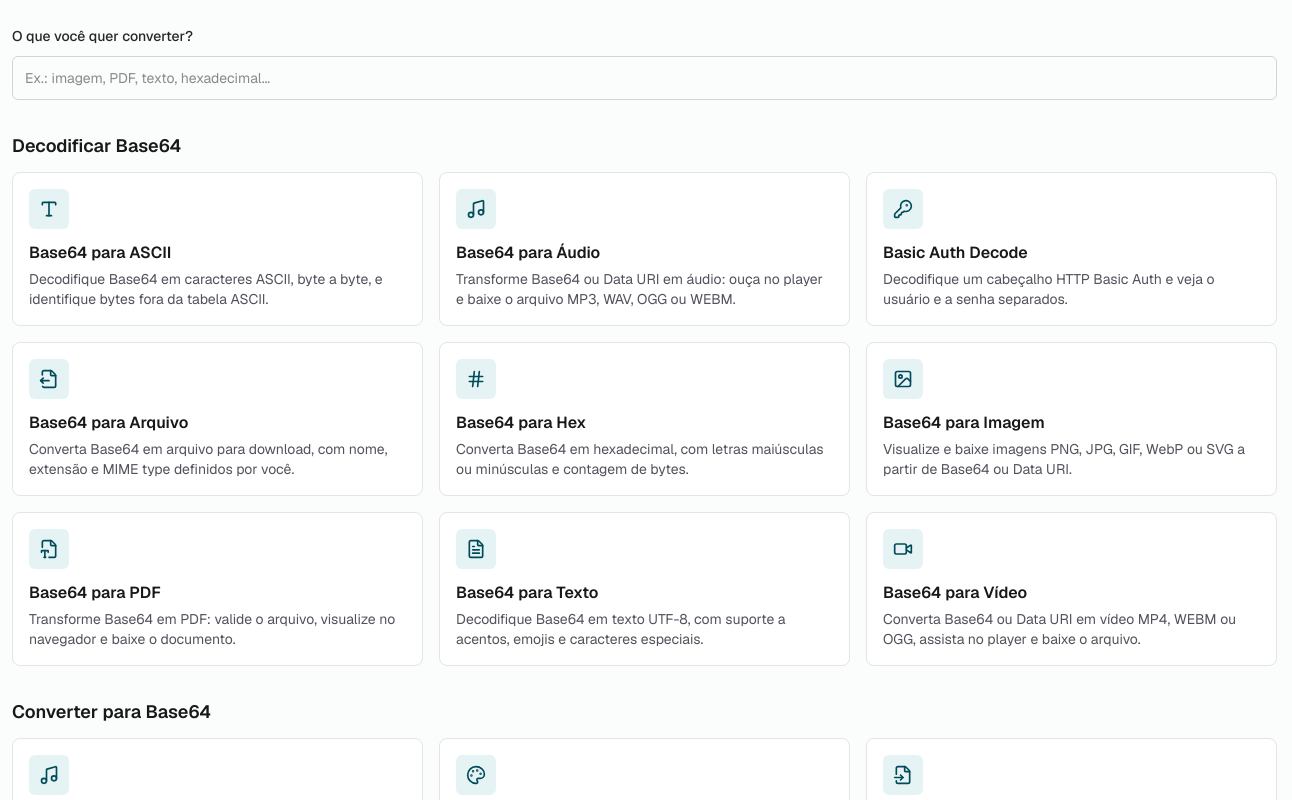
Test case: Base64CategoryTools › divide as seções e filtra pela busca
Expected: the heading "Decodificar Base64" is shown, [12, 134, 181, 157]
Expected: the heading "Converter para Base64" is shown, [12, 700, 211, 723]
Type "pdf" into the search field labelled "O que você quer converter?".
click(644, 78); type("pdf")  # box [12, 56, 1277, 100]
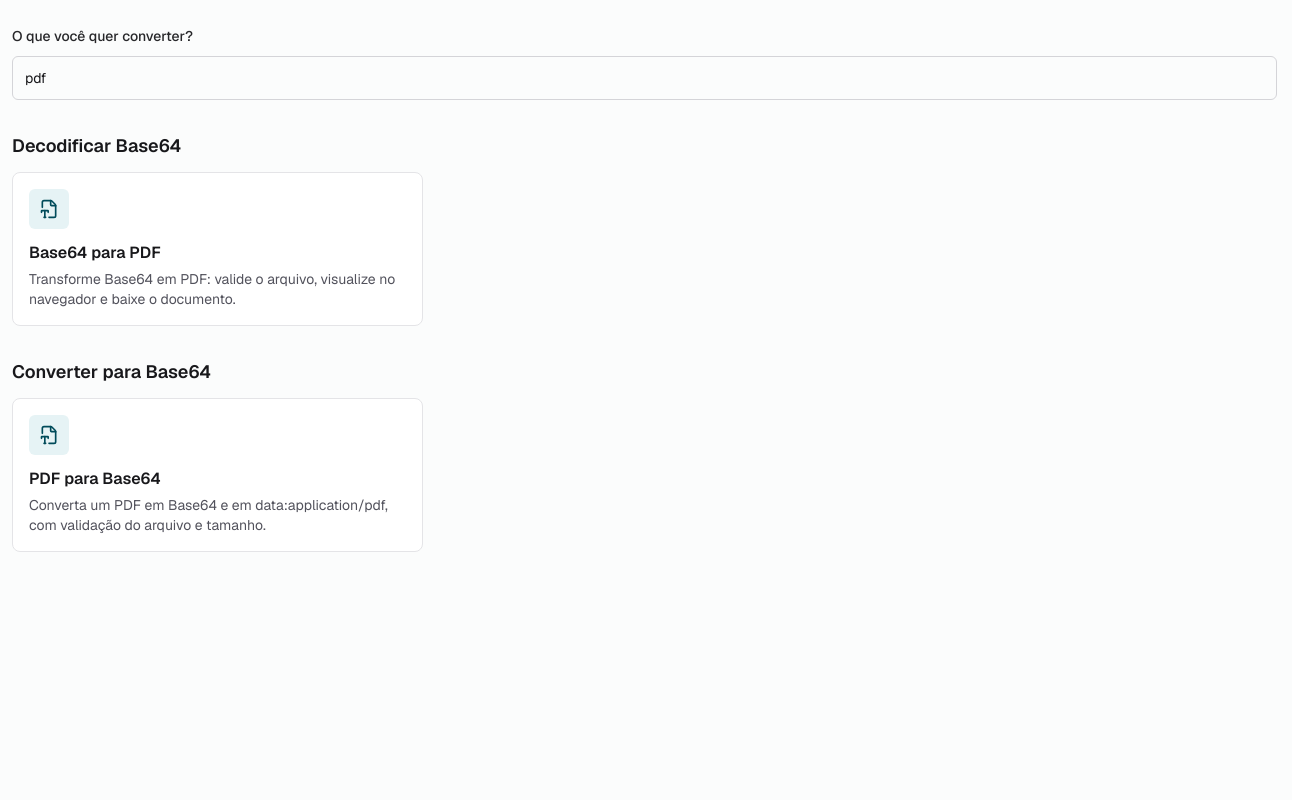
Expected: the number of links is 2, [12, 172, 423, 326]; [12, 398, 423, 552]
